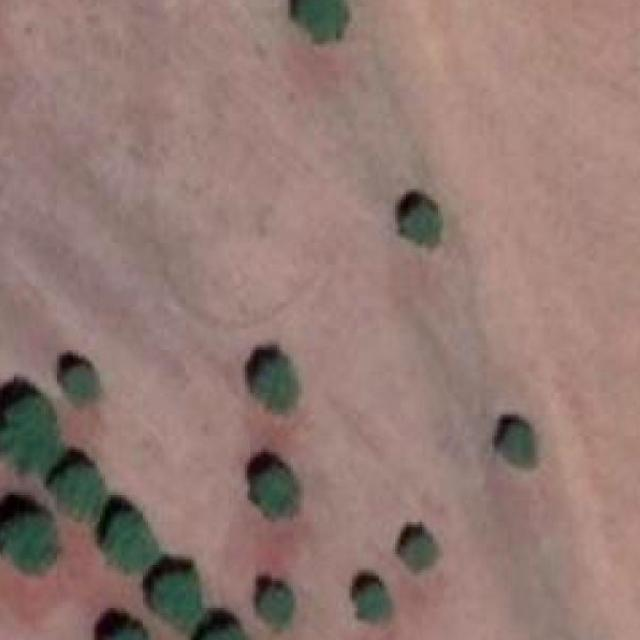Tree: (0, 393, 62, 466), (0, 514, 57, 574), (52, 459, 103, 522), (105, 506, 154, 570), (154, 568, 205, 627), (250, 358, 299, 416), (259, 463, 302, 520), (296, 0, 350, 44), (495, 415, 541, 466), (402, 200, 443, 248), (258, 586, 298, 632), (354, 583, 396, 624), (65, 366, 101, 404), (404, 538, 441, 573), (198, 626, 256, 640), (110, 629, 154, 640)
